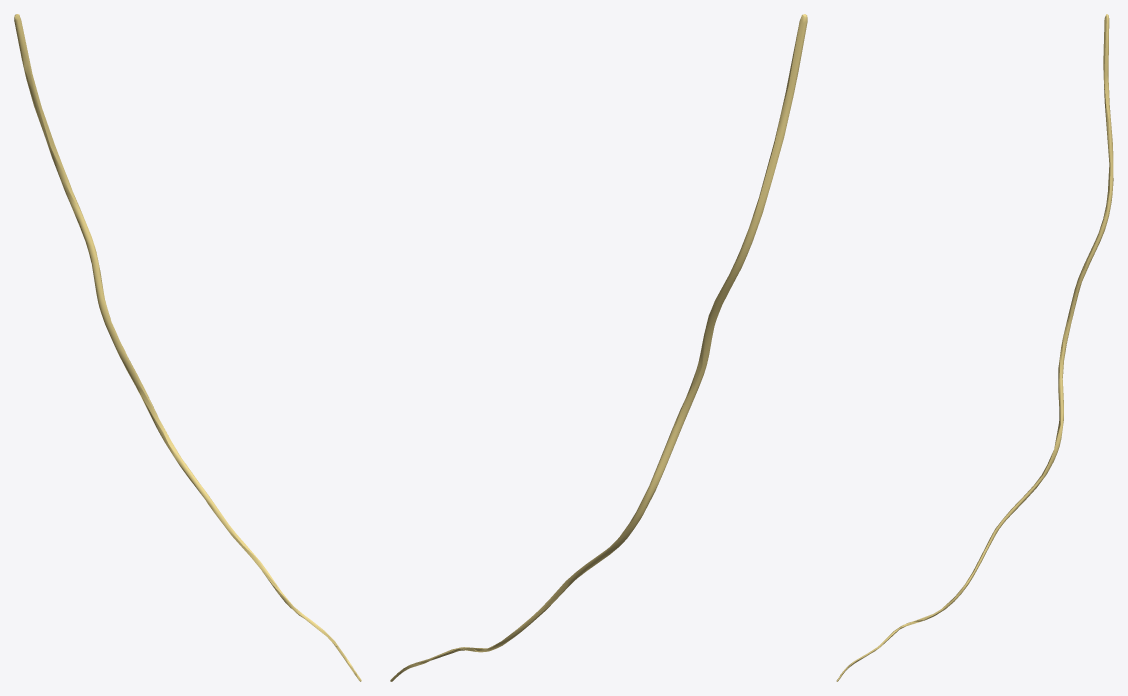
Rendered from fma65344_fj4282.glb.
3 renders of one model, left to right at view 1: azimuth 30°, elevation 25°; view 2: azimuth 210°, elevation 25°; view 3: azimuth 270°, elevation 25°, orthographic. The views are drawn at different scales.
Parts seen in each view (by area): view 1: FMA65344_FJ4282; view 2: FMA65344_FJ4282; view 3: FMA65344_FJ4282.
Boxes of the visible parts, x1,y1,x2,y2 form: FMA65344_FJ4282: (14, 14, 361, 681); FMA65344_FJ4282: (390, 14, 807, 681); FMA65344_FJ4282: (836, 14, 1113, 681).
Bounding box in the file's own units: 0.0425 × 0.1217 × 0.0531.
